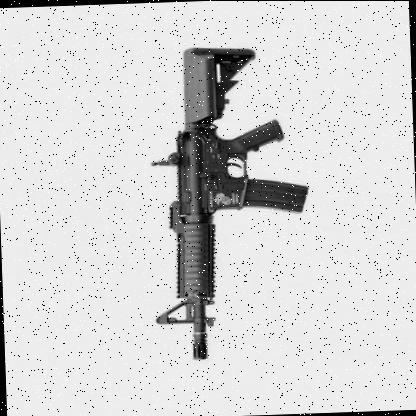rifle: (133, 40, 321, 365)
